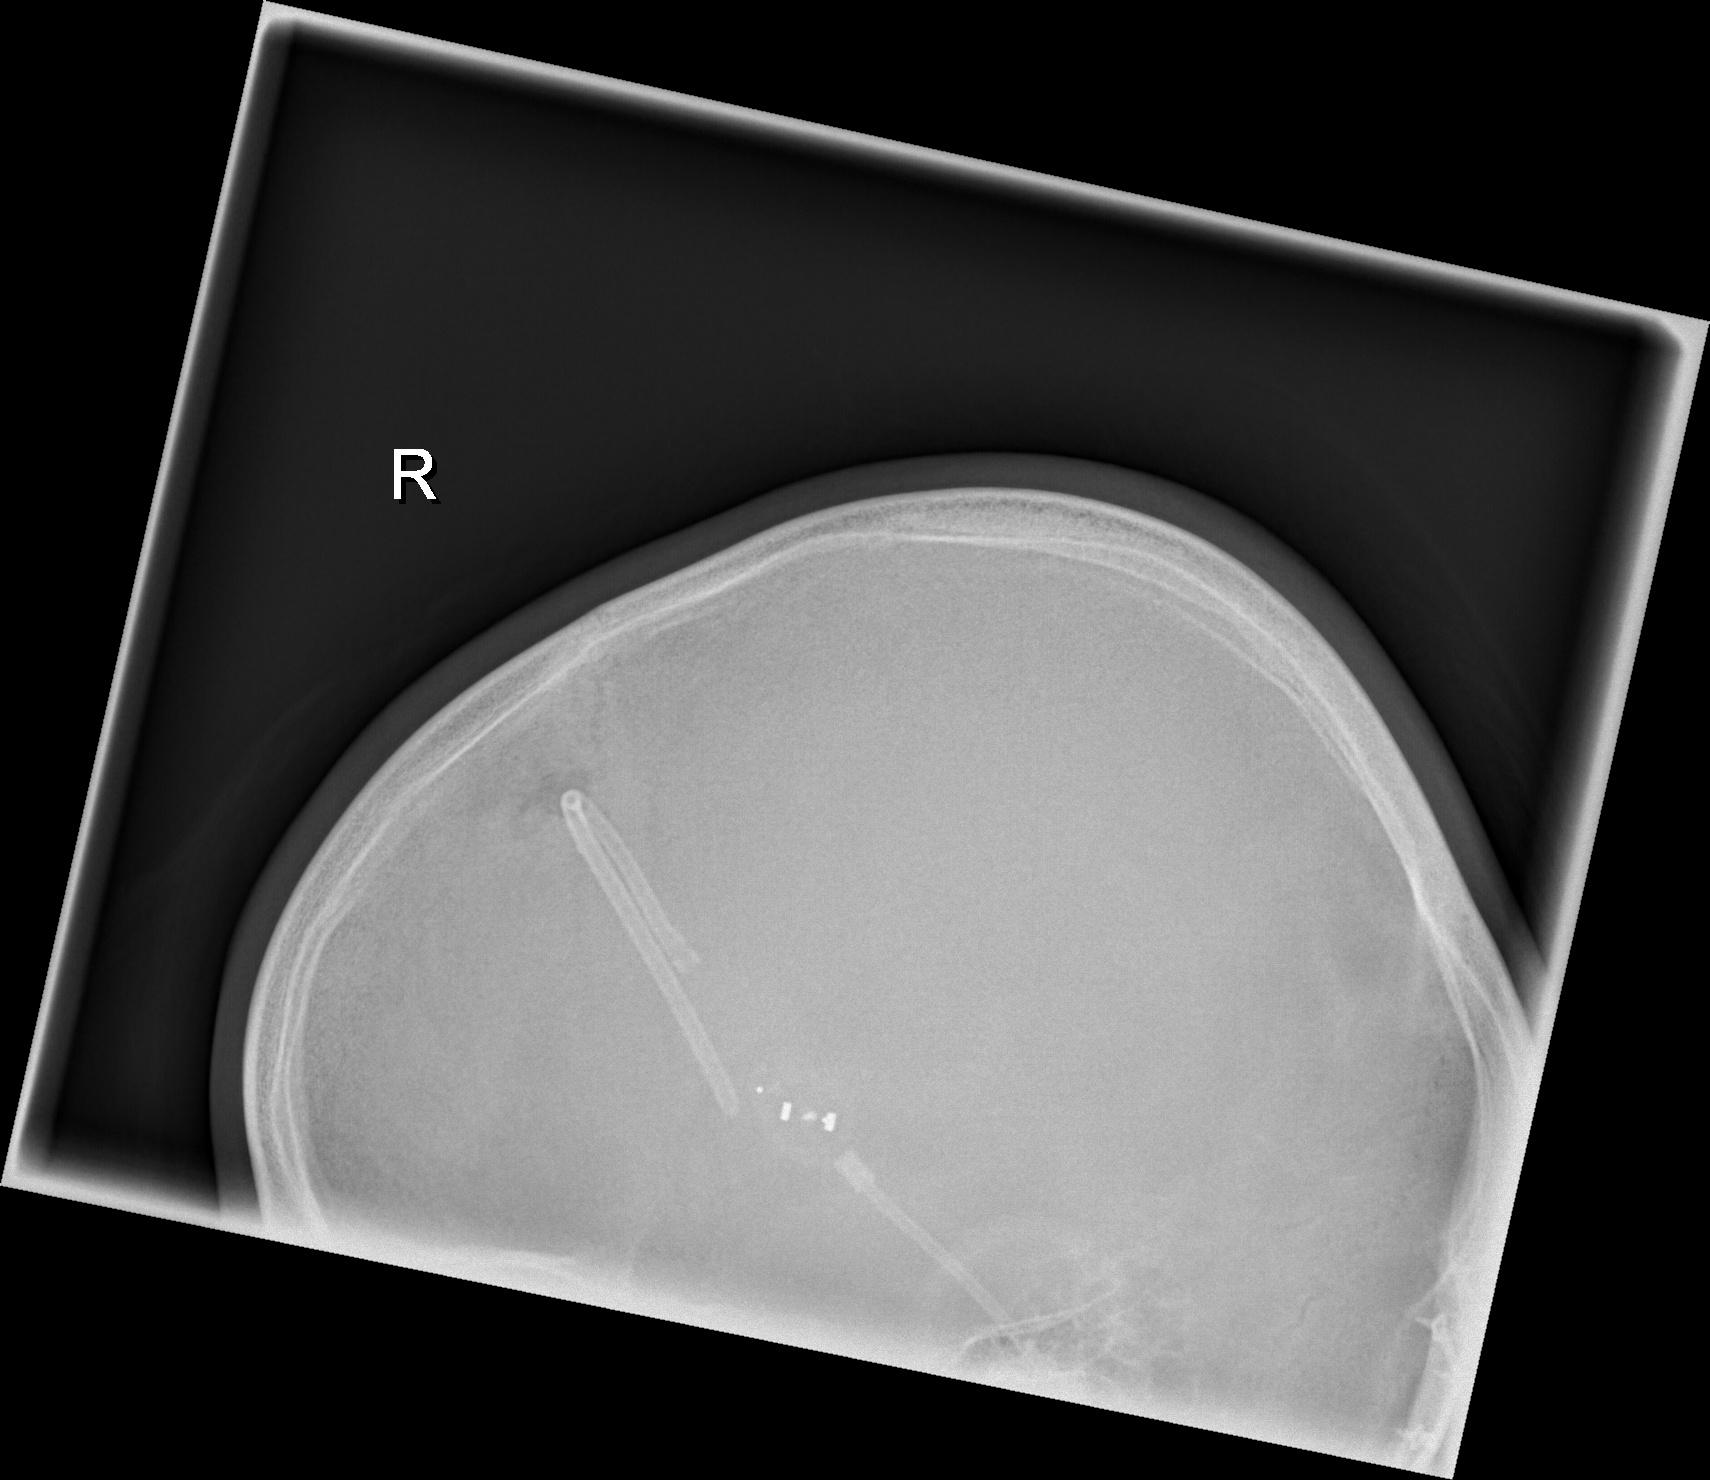Codman Certas: (739, 1067, 864, 1162)
